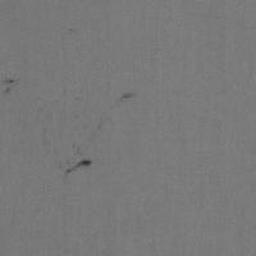Inclusion: (66, 159, 92, 174), (4, 79, 15, 93), (121, 93, 134, 99)
